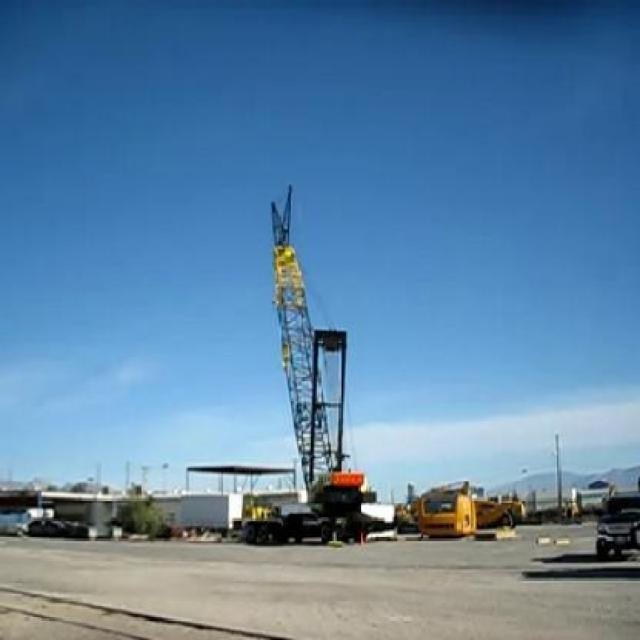Mobile Crane: (266, 190, 376, 542)
